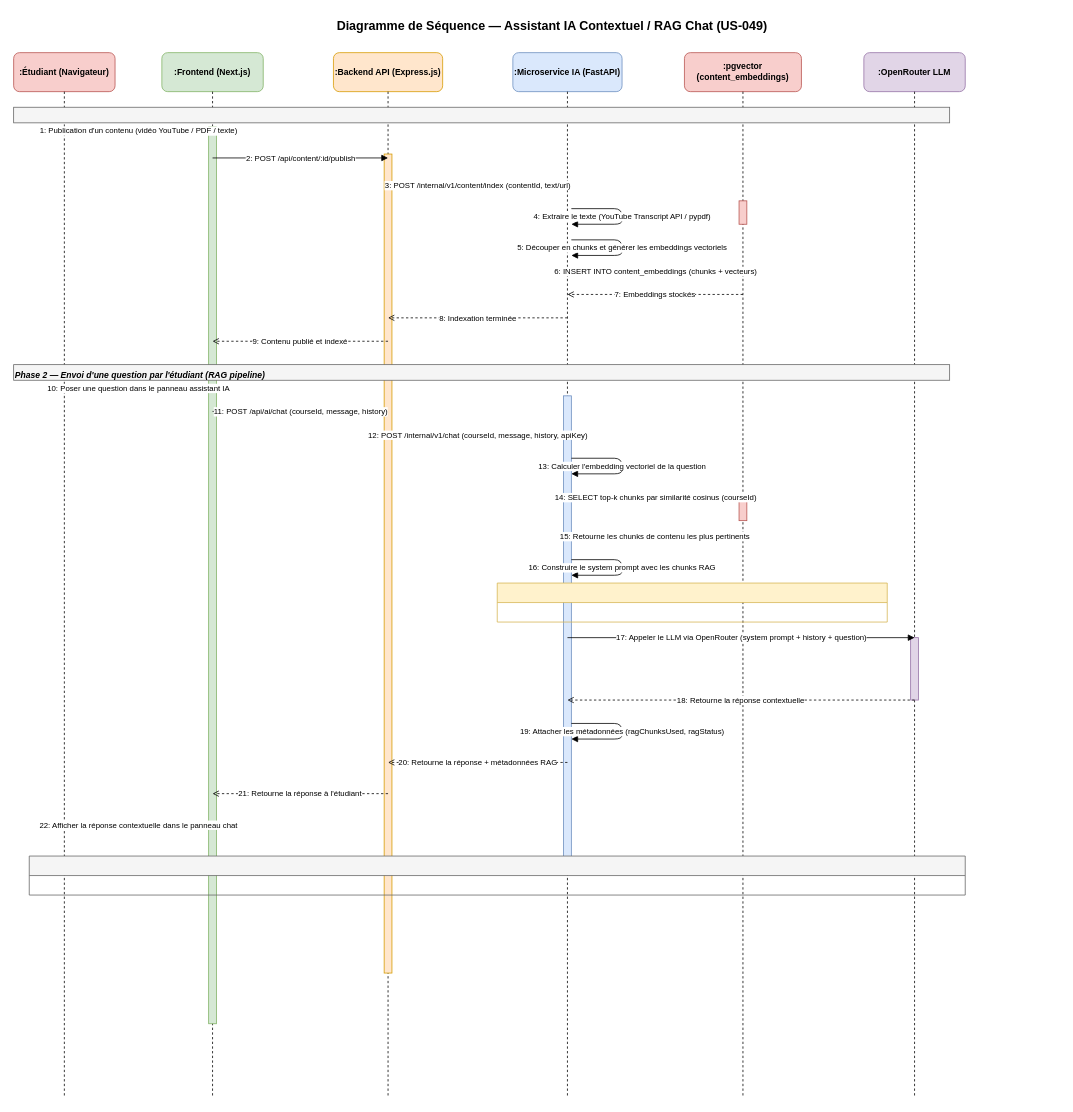
Some shapes in this 1073 by 1112 pixel diagram are drawn without their labels. The box of each missing label's shape, as (x1, y1, x2, y2) in pixels:
[alt] Aucun chunk trouvé → ragStatus = NO_CONTENT: (496, 582, 887, 622)
[loop] L'étudiant continue la conversation multi-tour: (28, 855, 965, 895)
Phase 1 — Indexation du contenu (pré-requis, déclenché lors de la publication): (13, 106, 950, 123)
